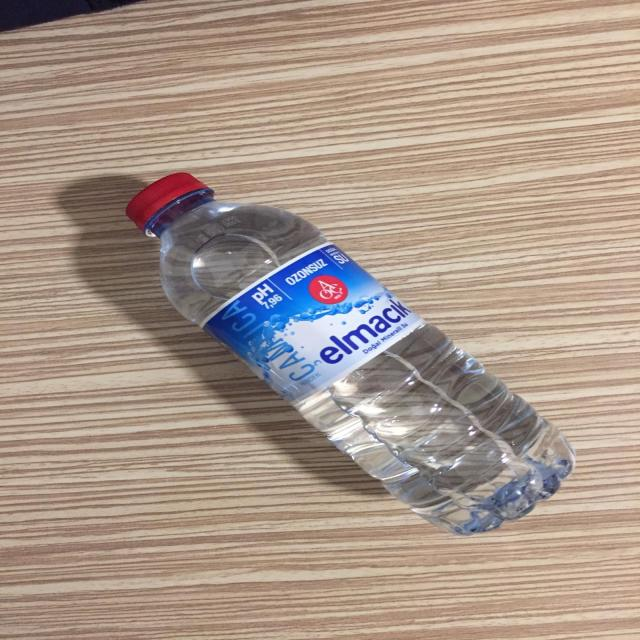bottle: (122, 169, 571, 536)
